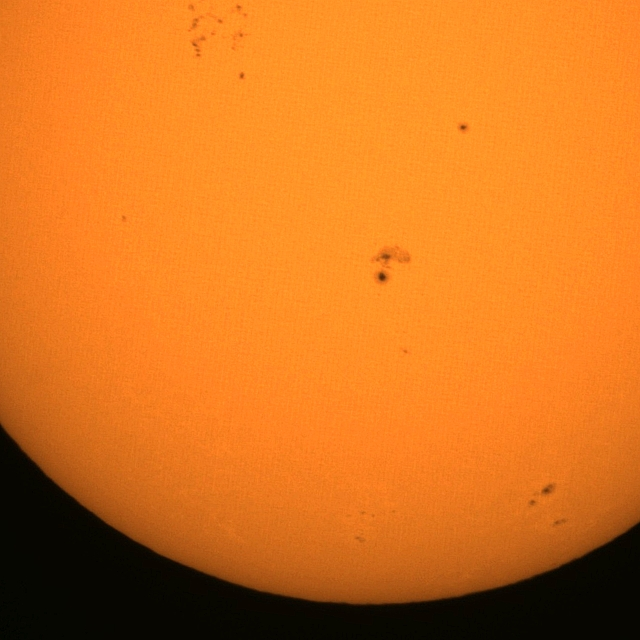sunspot: (369, 244, 412, 286), (185, 1, 223, 44), (189, 23, 219, 57), (528, 482, 556, 508), (231, 32, 247, 51), (232, 3, 248, 17), (355, 534, 367, 544), (458, 123, 469, 133), (186, 2, 196, 12), (238, 71, 246, 81), (216, 17, 224, 25), (121, 214, 128, 223), (402, 348, 410, 355)
